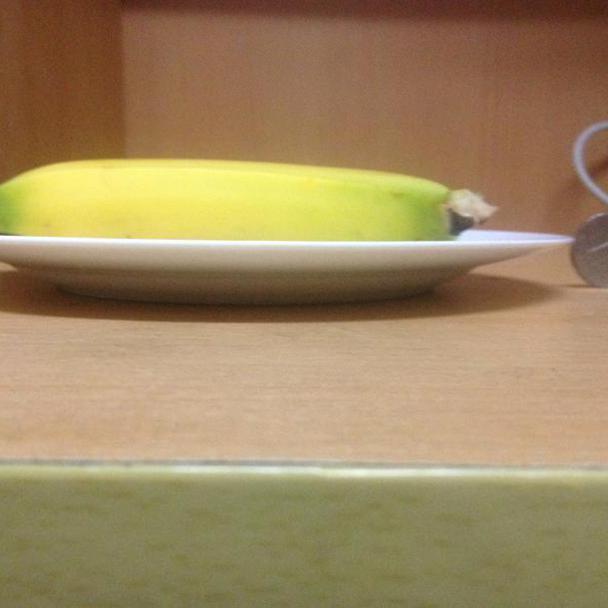banana: (2, 139, 502, 241)
